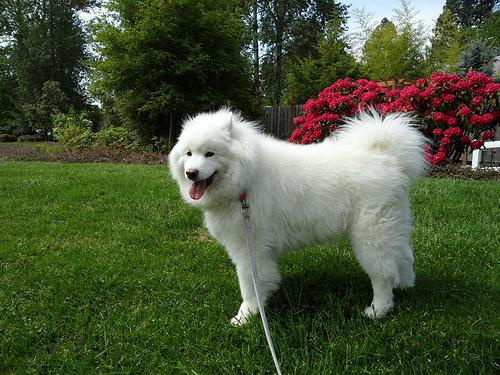dog-samoyed: (175, 111, 235, 198)
